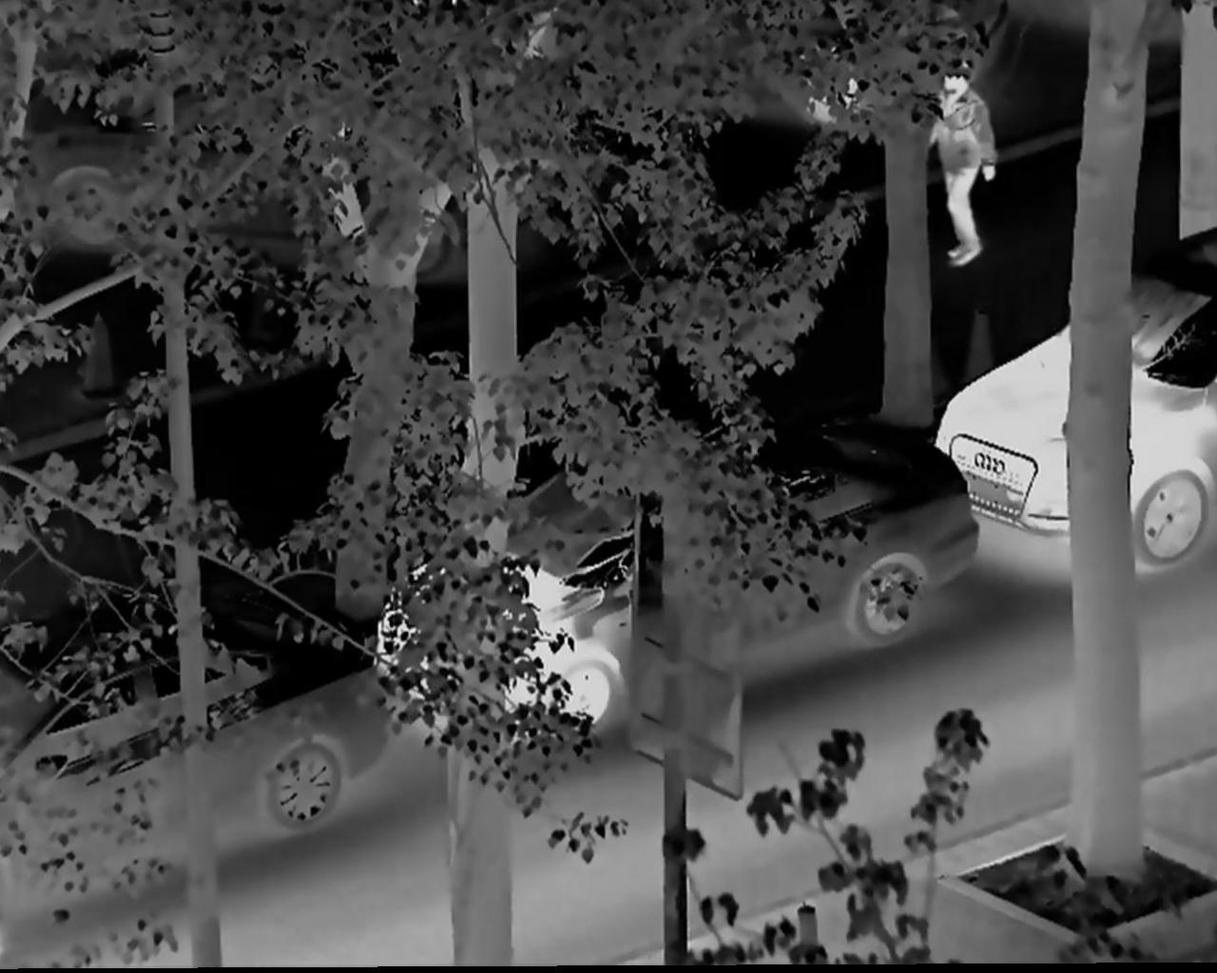person: (918, 49, 1006, 274)
